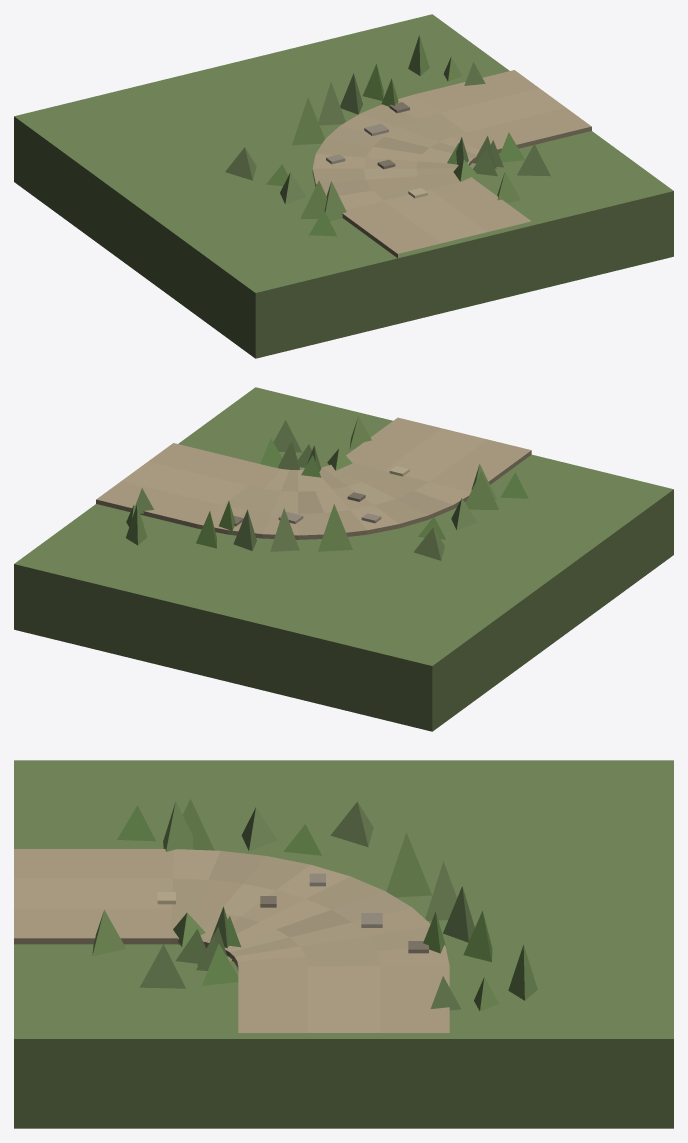
File: t_footpath_corner.glb
3 renders of one model, top to bottom at view 1: azimuth 30°, elevation 25°; view 2: azimuth 150°, elevation 25°; view 3: azimuth 270°, elevation 25°, orthographic. The views are drawn at different scales.
Parts seen in each view (by area): view 1: t_footpath_corner; view 2: t_footpath_corner; view 3: t_footpath_corner.
Boxes of the visible parts, x1,y1,x2,y2 form: t_footpath_corner: (14, 14, 673, 358); t_footpath_corner: (14, 387, 673, 731); t_footpath_corner: (14, 760, 673, 1128).
Bounding box in the file's own units: 2 × 0.4965 × 2.
